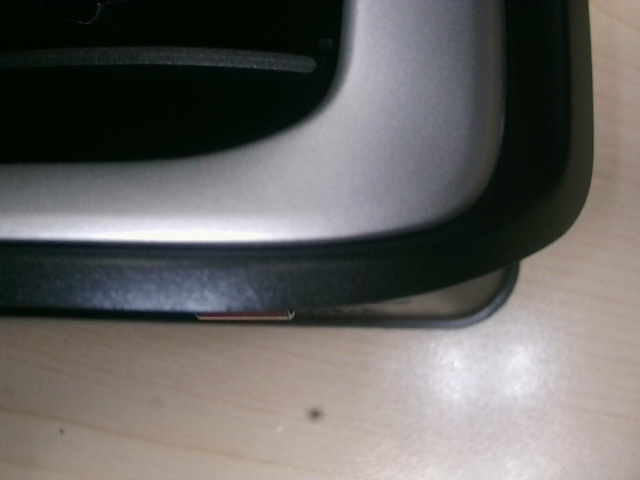NG: (207, 271, 284, 326)
